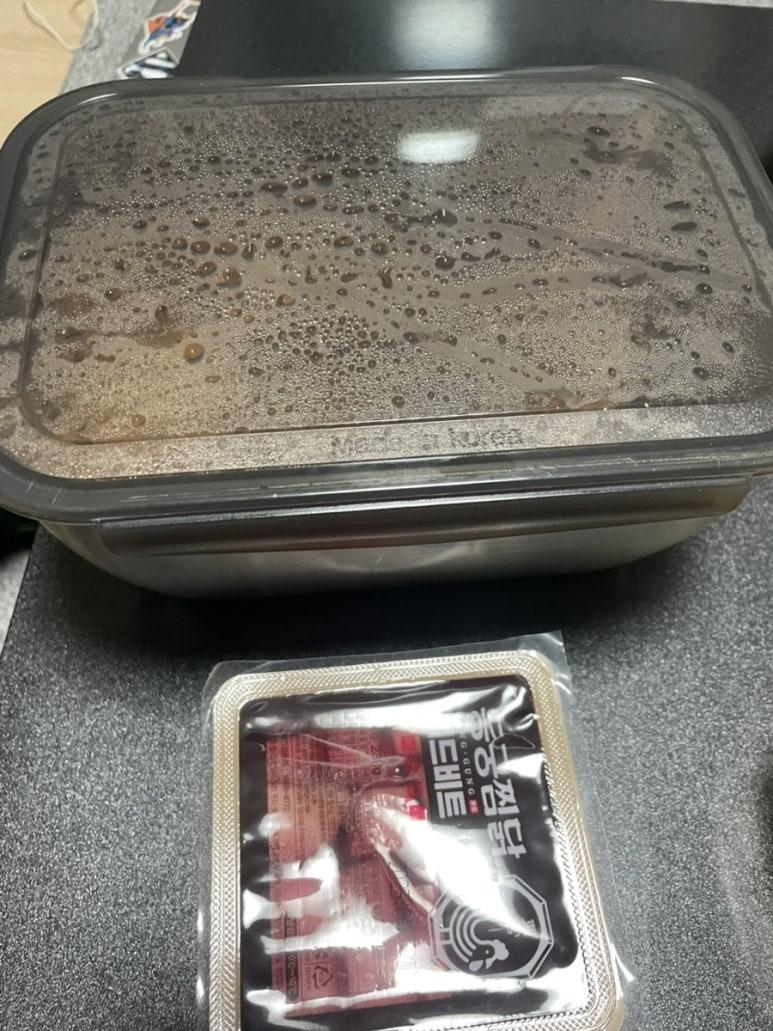Lunch Box: (199, 635, 626, 1030)
